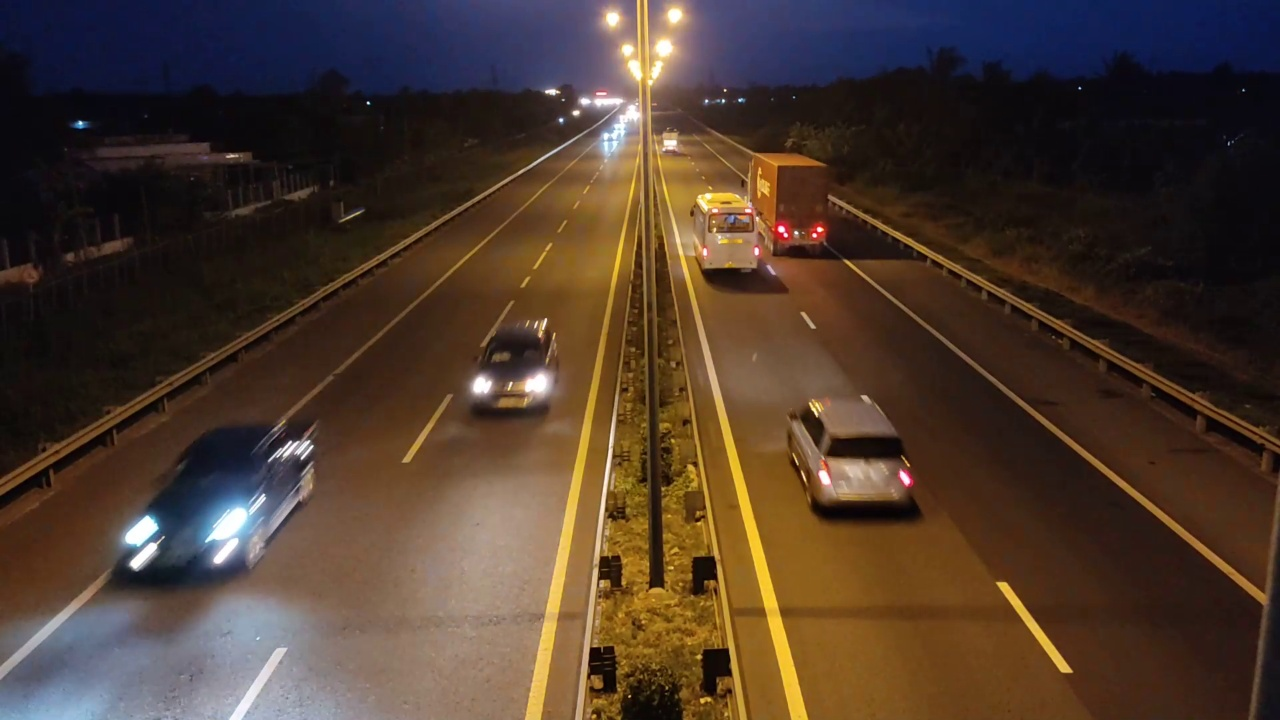bus: (690, 182, 763, 285)
car: (113, 421, 318, 583), (785, 393, 919, 517), (467, 319, 559, 416)
truck: (747, 150, 831, 257)
